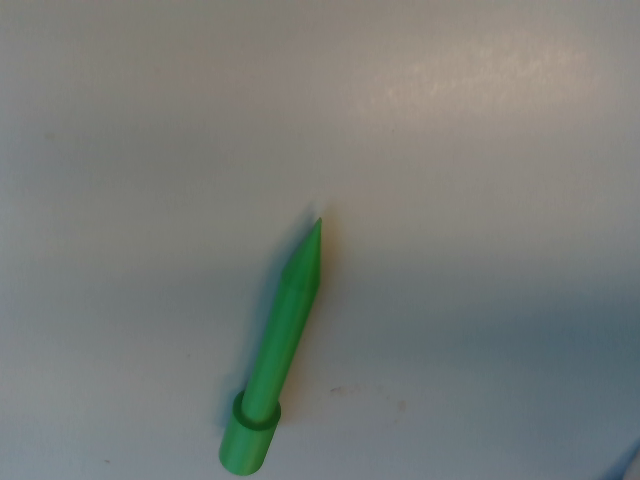Probe: (215, 207, 331, 480)
